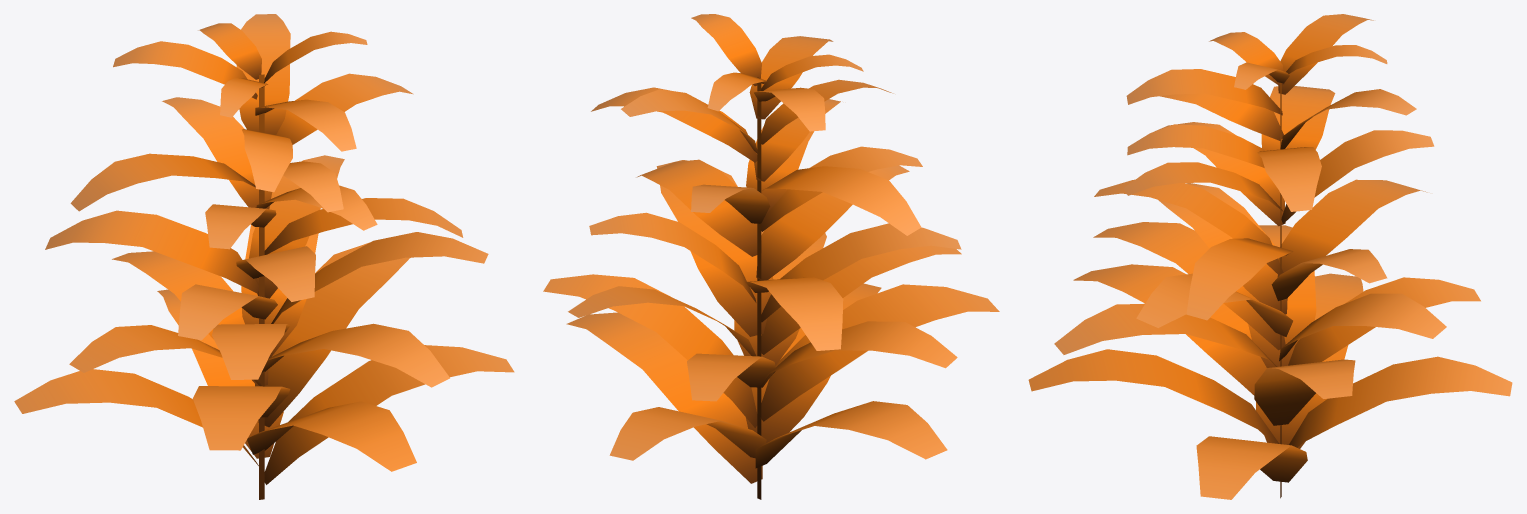
File: plant_002.fbx
3 renders of one model, left to right at view 1: azimuth 30°, elevation 25°; view 2: azimuth 150°, elevation 25°; view 3: azimuth 270°, elevation 25°, orthographic.
Parts seen in each view (by area): view 1: plant.002; view 2: plant.002; view 3: plant.002.
Part boxes in pixels (bbox=[...]): plant.002: bbox=[14, 14, 514, 499]; plant.002: bbox=[543, 14, 999, 499]; plant.002: bbox=[1028, 14, 1512, 499].
Size of the model in its own units: 49.6 by 49.94 by 47.99.
